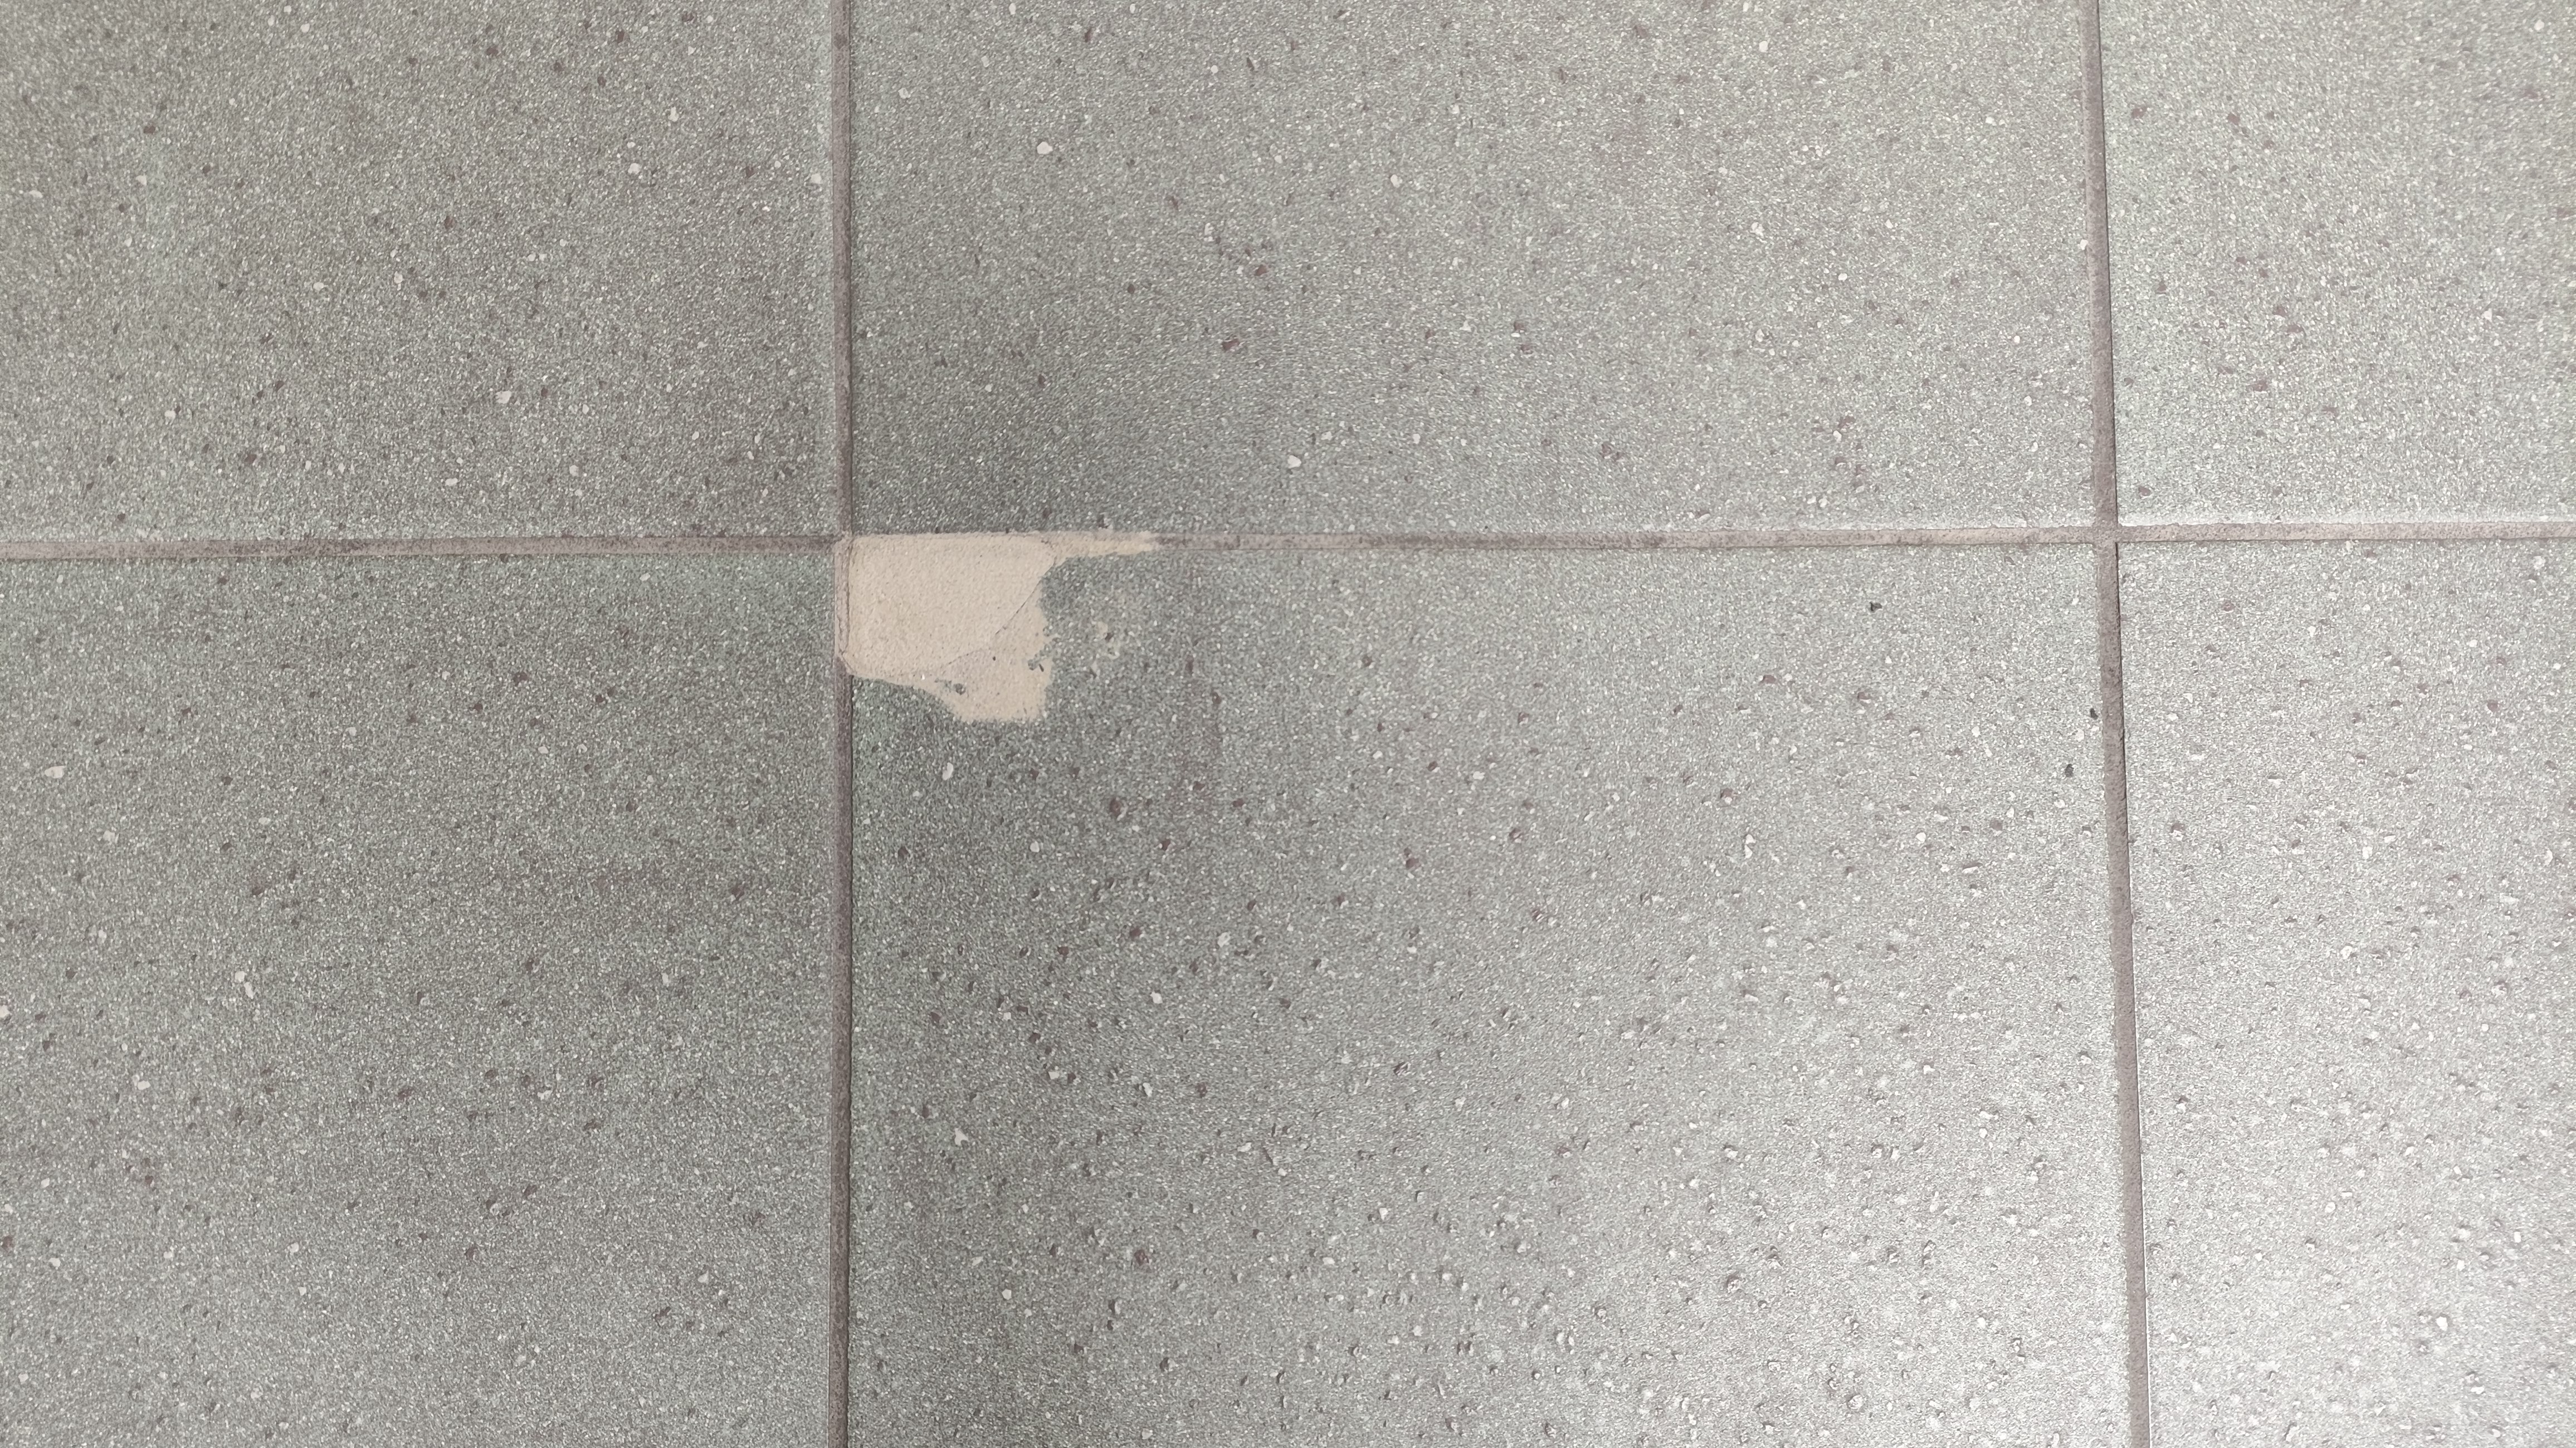Defect: (809, 520, 1180, 739)
